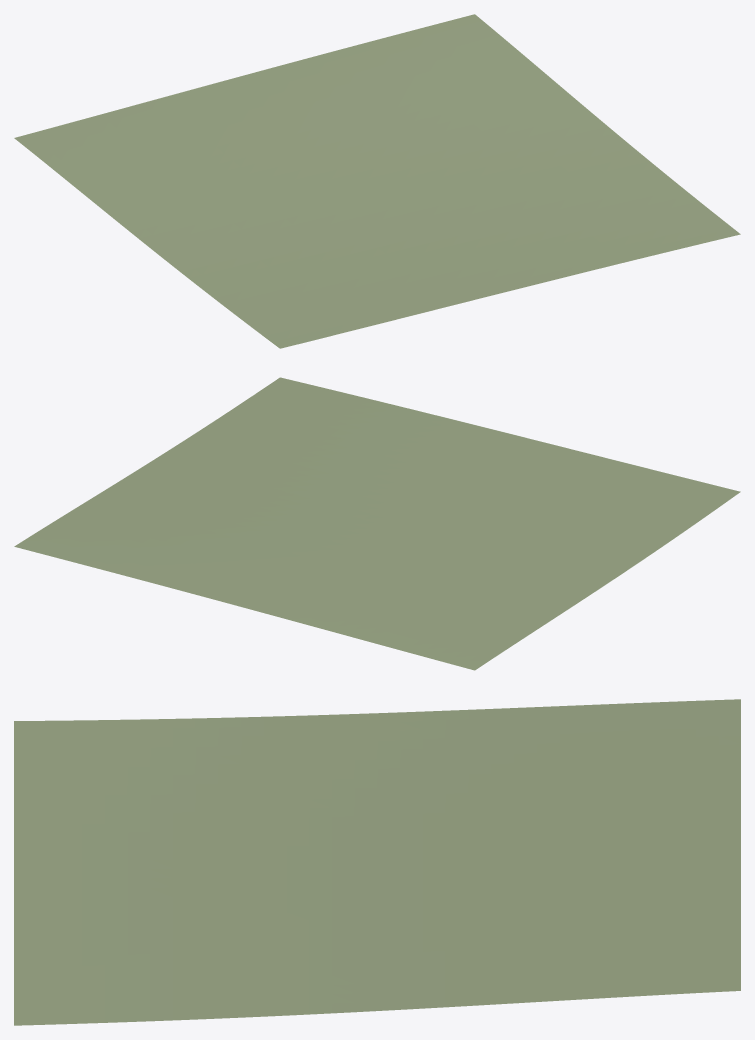
File: desert-20-23.glb
3 views of the same model, one above another, from view 1: azimuth 30°, elevation 25°; view 2: azimuth 150°, elevation 25°; view 3: azimuth 270°, elevation 25° (orthographic). The views are drawn at different scales.
Visible parts, largest first — view 1: desert-20-23; view 2: desert-20-23; view 3: desert-20-23.
Part boxes in pixels (bbox=[...]): desert-20-23: bbox=[14, 14, 740, 348]; desert-20-23: bbox=[14, 377, 740, 670]; desert-20-23: bbox=[14, 699, 740, 1025].
Bounding box in the file's own units: 512 × 29.12 × 512.
